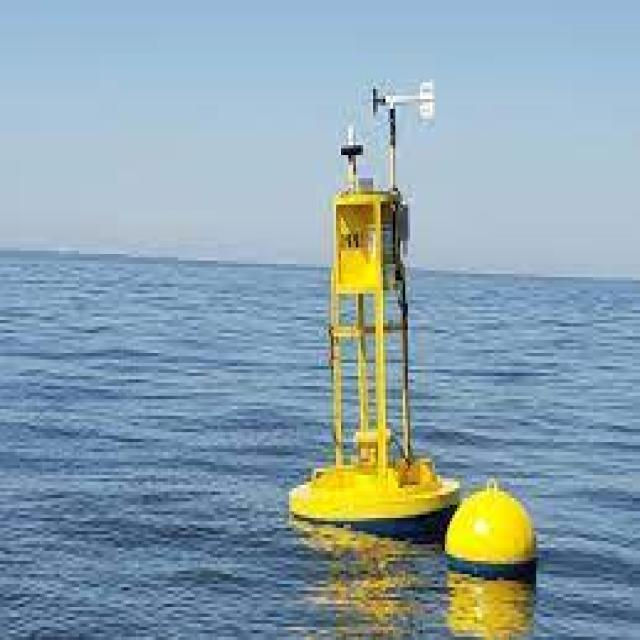buoy: (279, 51, 553, 597)
